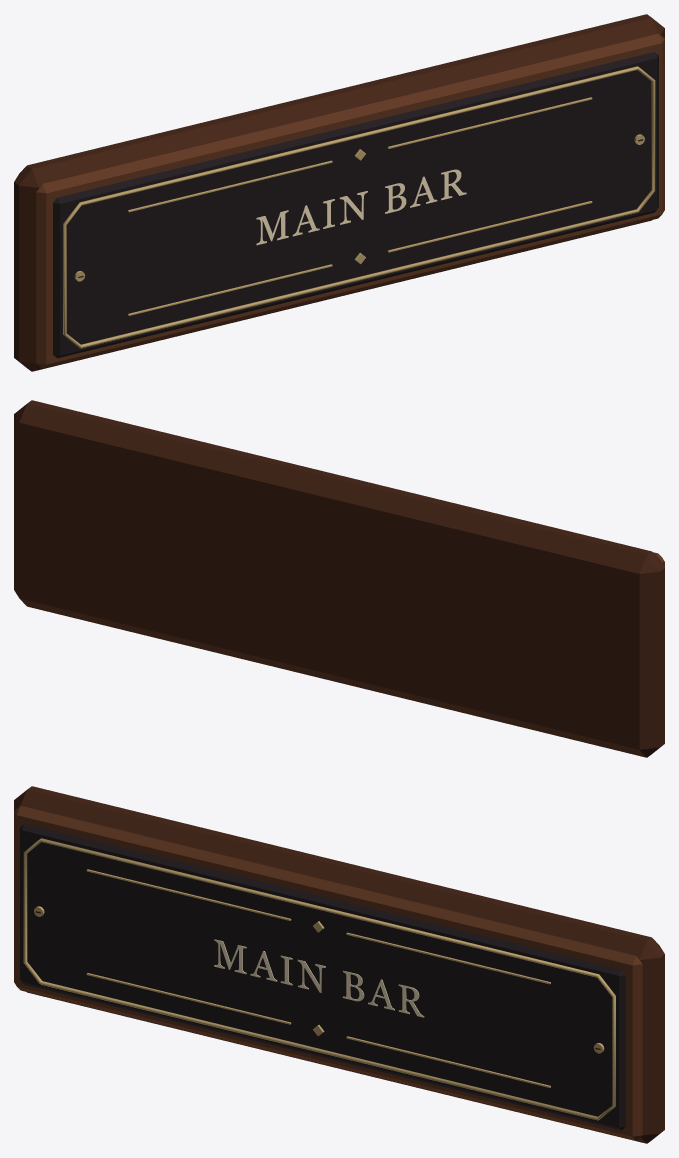
The model's file is BarRoomSign.glb.
The picture shows the model from 3 angles, top to bottom: view 1: azimuth 30°, elevation 25°; view 2: azimuth 150°, elevation 25°; view 3: azimuth 330°, elevation 25°; orthographic projection.
Visible parts, largest first — view 1: EnamelFace.001, BevelledOak.001, OakMoulding.001, GoldCartouche.001, Lettering_MAIN BAR, GoldHairline.005, GoldHairline.007, GoldHairline.006, GoldHairline.004; view 2: BevelledOak.001; view 3: EnamelFace.001, BevelledOak.001, OakMoulding.001, GoldCartouche.001, Lettering_MAIN BAR, GoldHairline.004, GoldHairline.006, GoldHairline.007, GoldHairline.005.
Boxes of the visible parts, x1,y1,x2,y2 form: EnamelFace.001: (53,52,658,358); BevelledOak.001: (14,14,664,371); OakMoulding.001: (36,33,664,368); GoldCartouche.001: (63,66,655,348); Lettering_MAIN BAR: (256,169,466,245); GoldHairline.005: (387,201,592,252); GoldHairline.007: (387,97,592,148); GoldHairline.006: (128,160,332,212); GoldHairline.004: (128,264,332,315); BevelledOak.001: (14,400,664,757); EnamelFace.001: (20,824,625,1130); BevelledOak.001: (14,786,664,1143); OakMoulding.001: (14,805,642,1140); GoldCartouche.001: (23,838,615,1120); Lettering_MAIN BAR: (214,939,424,1017); GoldHairline.004: (86,973,291,1024); GoldHairline.006: (86,869,291,920); GoldHairline.007: (346,932,550,984); GoldHairline.005: (346,1036,550,1087).
Bounding box in the file's own units: 4.5 × 1.35 × 0.381.
